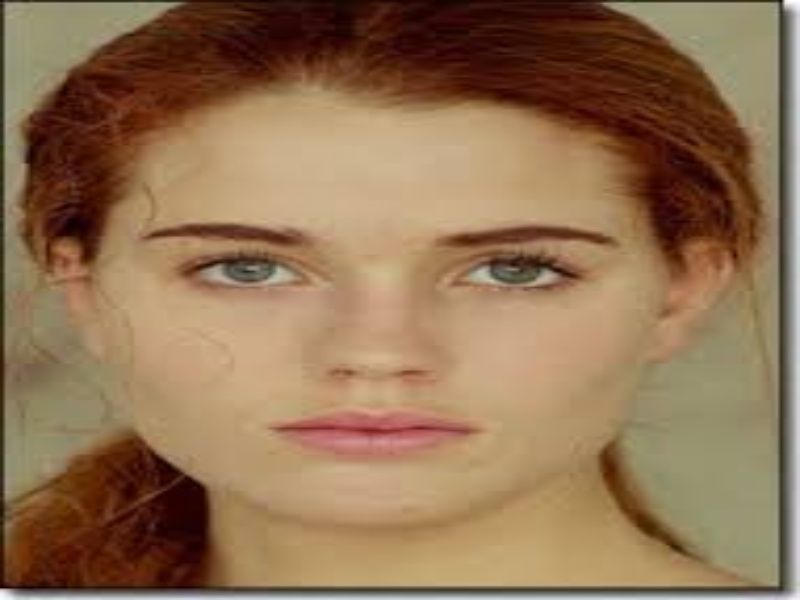face: (126, 155, 637, 483)
